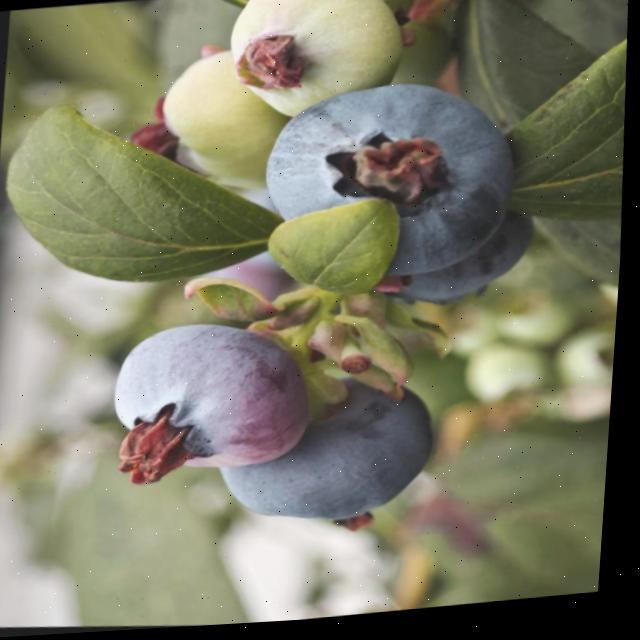RipeBlueBerry: (253, 65, 537, 293)
Semi-RipeBlueBerry: (105, 311, 324, 487)
UnripeBlueBerry: (222, 0, 412, 131)
